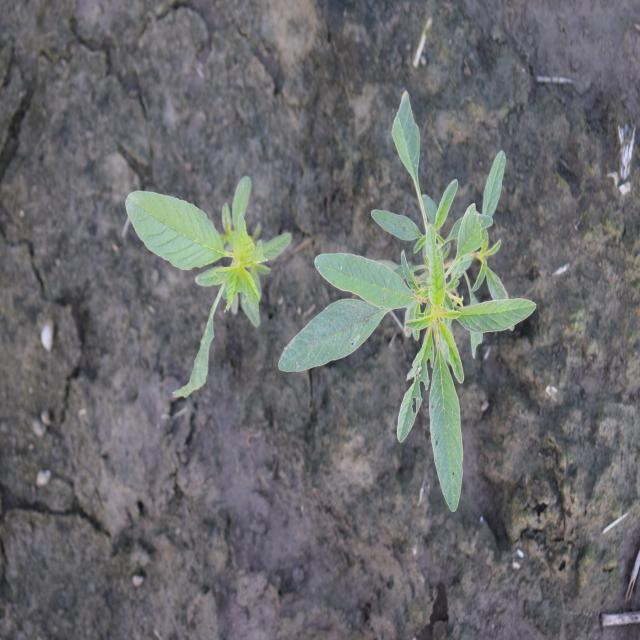Waterhemp: (276, 87, 539, 515), (124, 175, 292, 402)
